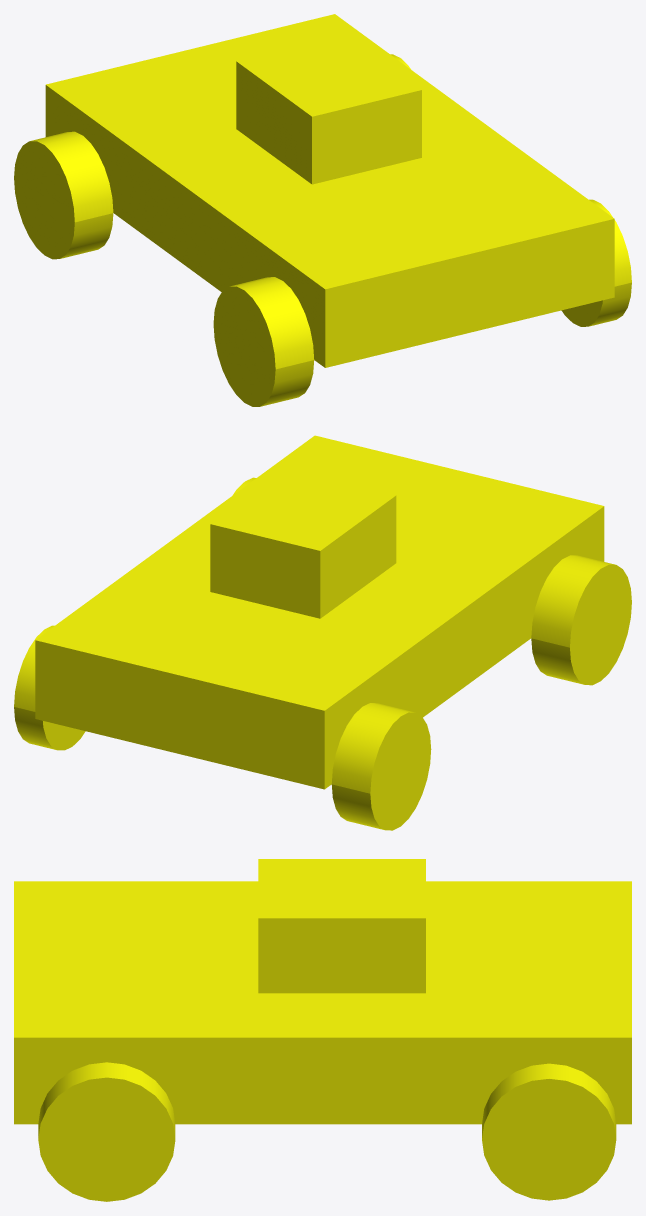
Rendered from bot.dae.
3 views of the same model, one above another, from view 1: azimuth 30°, elevation 25°; view 2: azimuth 150°, elevation 25°; view 3: azimuth 270°, elevation 25° (orthographic). The views are drawn at different scales.
Parts seen in each view (by area): view 1: SketchUp (×2); view 2: SketchUp (×2); view 3: SketchUp (×2).
Boxes of the visible parts, x1,y1,x2,y2 form: SketchUp (×2): [14, 14, 631, 406]; SketchUp (×2): [14, 435, 631, 830]; SketchUp (×2): [14, 859, 631, 1201].
Bounding box in the file's own units: 33.65 × 45.75 × 18.3.
